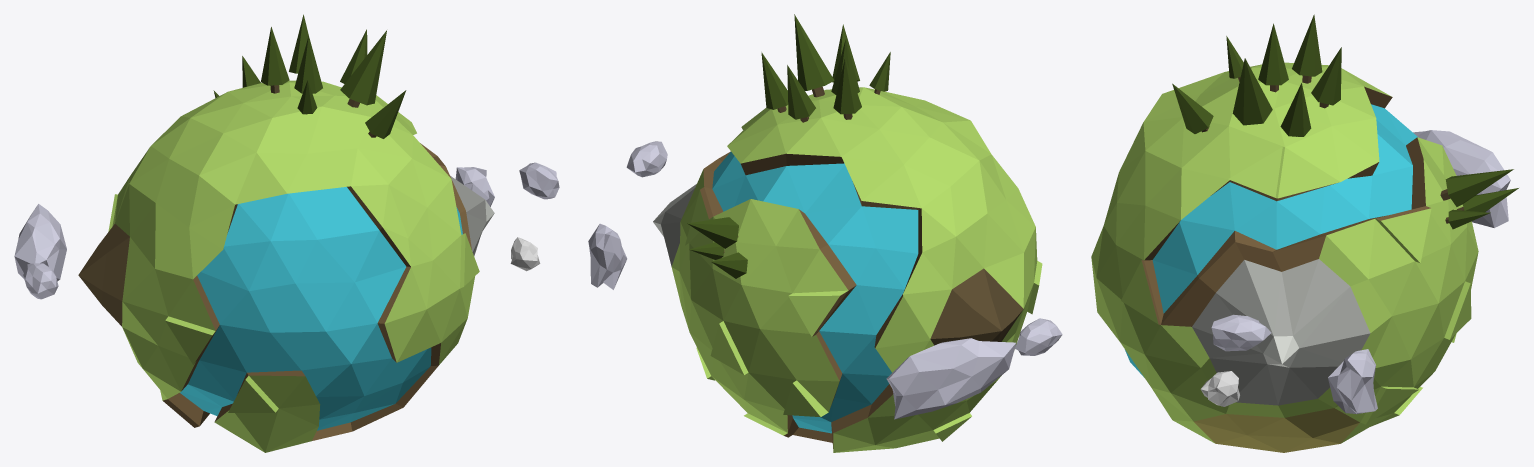
Rendered from planet04.fbx.
3 renders of one model, left to right at view 1: azimuth 30°, elevation 25°; view 2: azimuth 150°, elevation 25°; view 3: azimuth 270°, elevation 25°, orthographic. The views are drawn at different scales.
Visible parts, largest first — view 1: Icosphere; view 2: Icosphere; view 3: Icosphere.
Boxes of the visible parts, x1,y1,x2,y2 form: Icosphere: (14, 14, 559, 452); Icosphere: (588, 14, 1062, 452); Icosphere: (1091, 14, 1518, 452).
Bounding box in the file's own units: 5.96 × 4.36 × 4.67.
